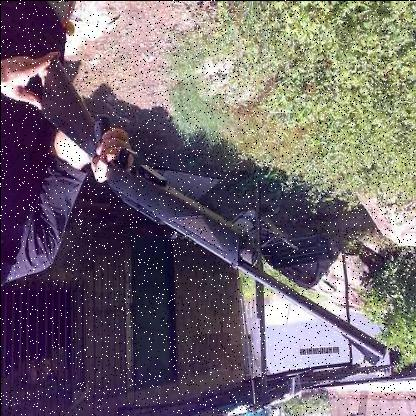rifle: (37, 50, 396, 369)
